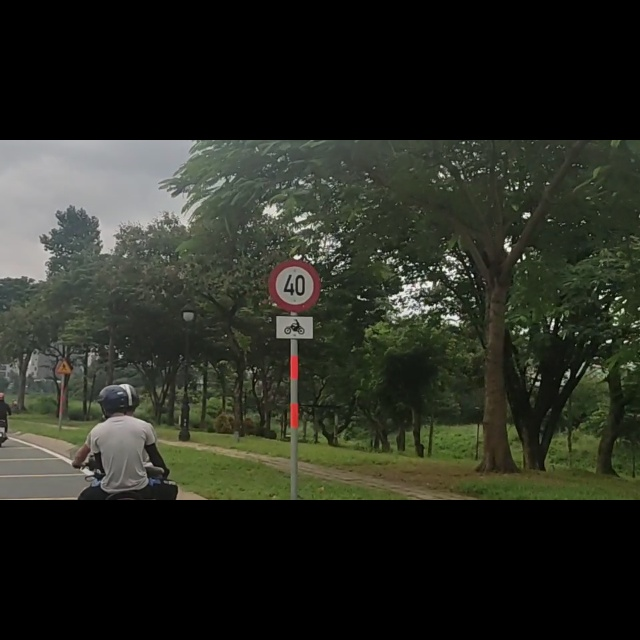bien_nguy_hiem: (269, 213, 324, 305), (56, 386, 73, 417)
